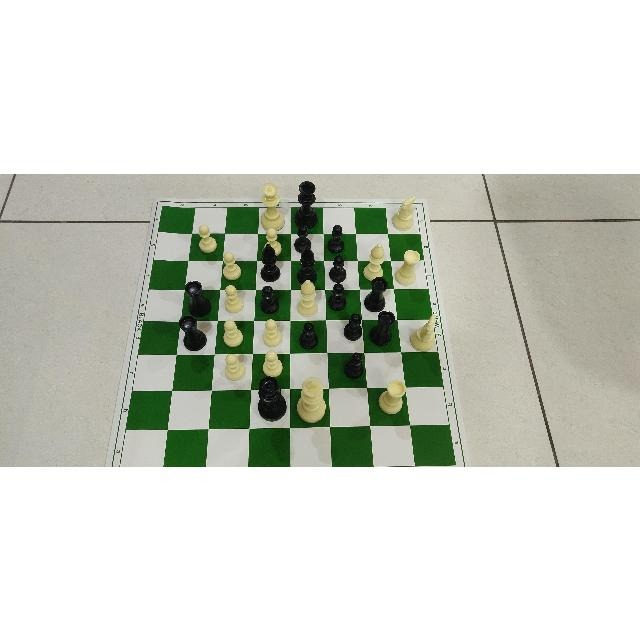black-bishop: (297, 245, 317, 283), (261, 243, 281, 280)
black-king: (293, 181, 318, 229)
black-pawn: (299, 318, 322, 351), (260, 283, 282, 315), (344, 352, 366, 384), (342, 312, 367, 339), (330, 219, 348, 250), (332, 281, 348, 309), (333, 251, 347, 281), (295, 224, 313, 244)
black-queen: (258, 375, 286, 421)
black-rook: (184, 280, 214, 315), (179, 316, 206, 350), (371, 311, 395, 345), (364, 279, 387, 311)
white-bishop: (294, 278, 319, 315), (364, 242, 384, 281)
white-king: (297, 376, 325, 423)
white-knight: (410, 313, 442, 351), (393, 194, 417, 230)
white-pawn: (262, 346, 291, 376), (222, 281, 248, 312), (262, 318, 287, 349), (219, 247, 242, 278), (196, 220, 218, 252), (223, 351, 247, 378), (222, 317, 244, 345), (265, 225, 282, 242)
white-queen: (261, 183, 285, 231)
white-rook: (394, 249, 420, 285), (380, 380, 406, 414)
